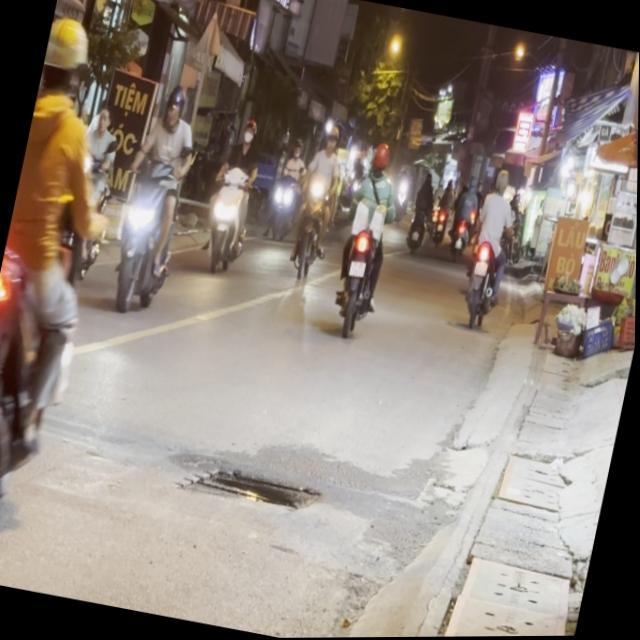helmet: (37, 11, 96, 102), (160, 81, 188, 125), (368, 140, 391, 174), (238, 115, 258, 147)
licenseplate: (0, 7, 145, 569), (99, 75, 209, 319), (322, 135, 409, 338), (196, 110, 273, 277)
nohelmet: (349, 259, 366, 277)
